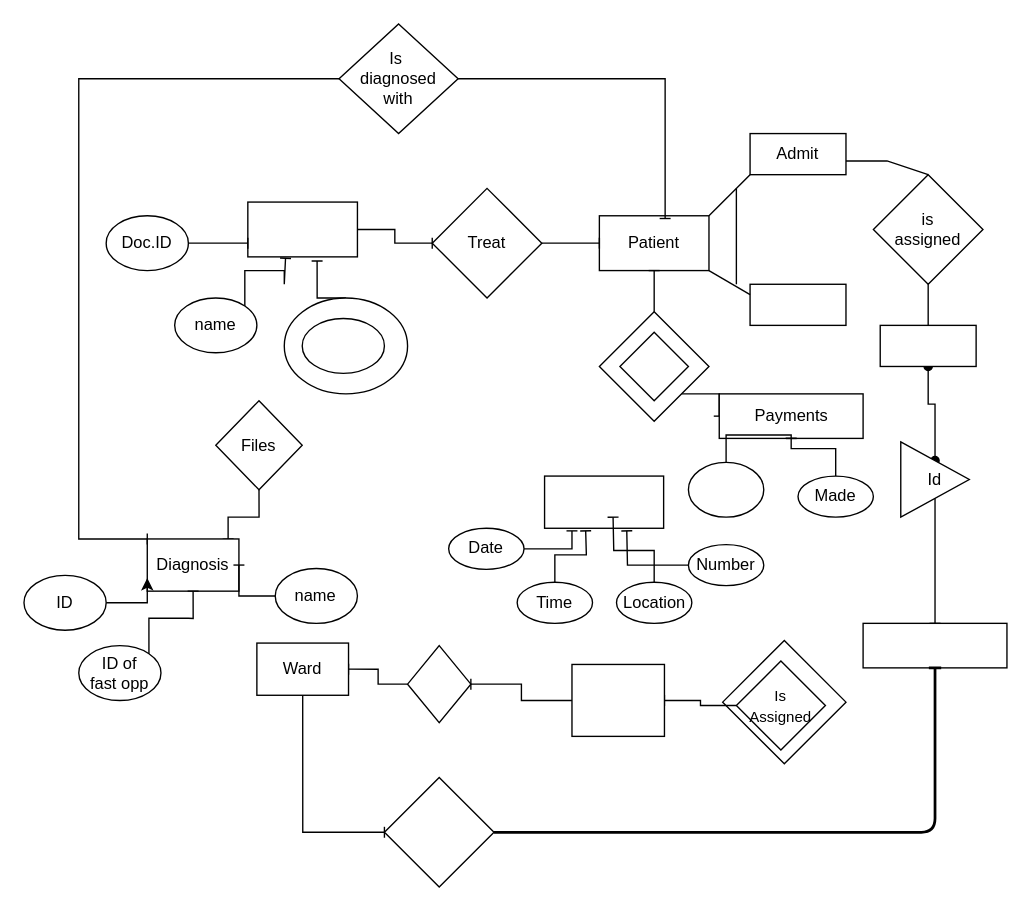
This 1032x911 diagram has some shape labels left out. Here are the shapes that lost their labels. From the top down, the box of each, then its label:
(246, 201, 357, 257): Doctor
(749, 283, 846, 325): Out
(301, 317, 384, 373): Content
(879, 324, 976, 366): Nurse
(619, 331, 688, 401): Make
(543, 475, 664, 528): Appointment
(687, 461, 764, 517): Pay ID
(862, 622, 1007, 668): Head Nurse
(406, 644, 471, 723): Has
(571, 663, 664, 736): Room
(383, 776, 494, 887): Marg
